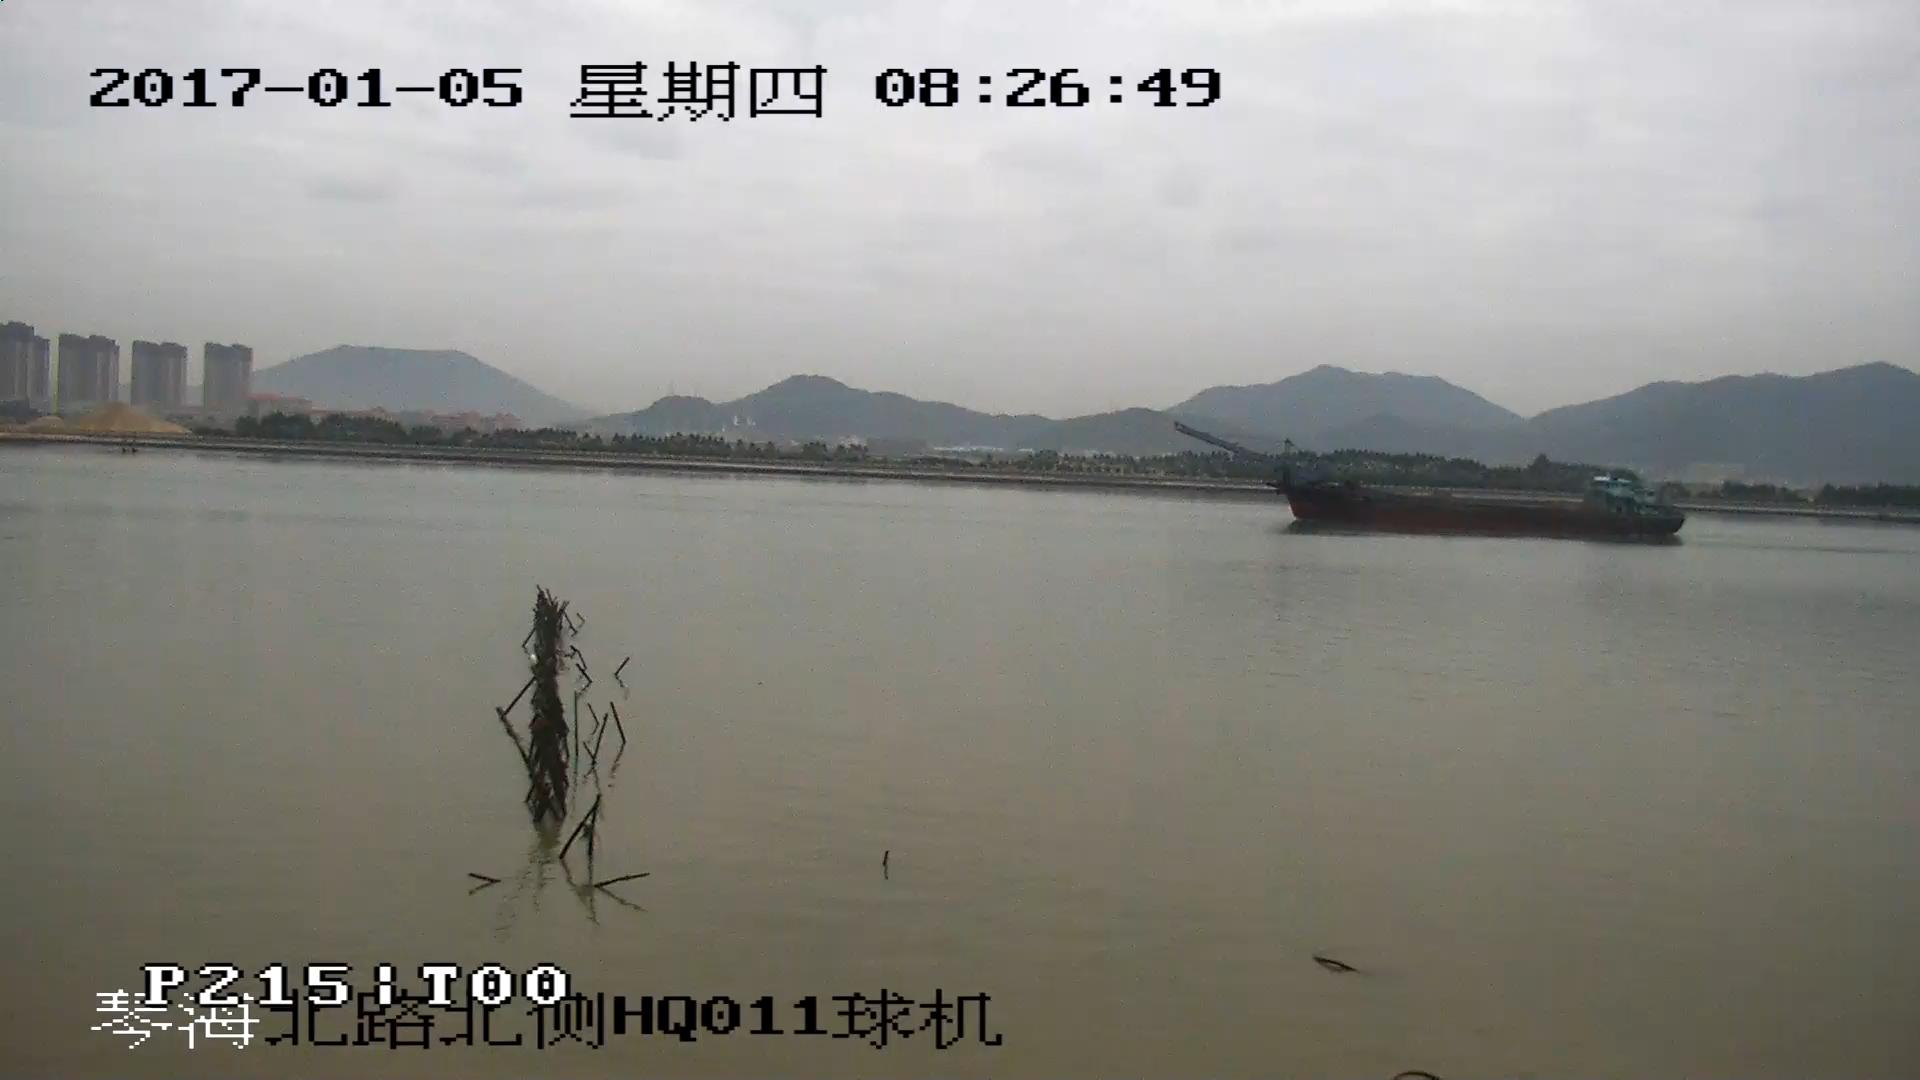bulk cargo carrier: (1176, 423, 1681, 541)
